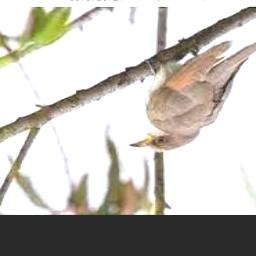Cuckoo: (129, 25, 256, 152)
